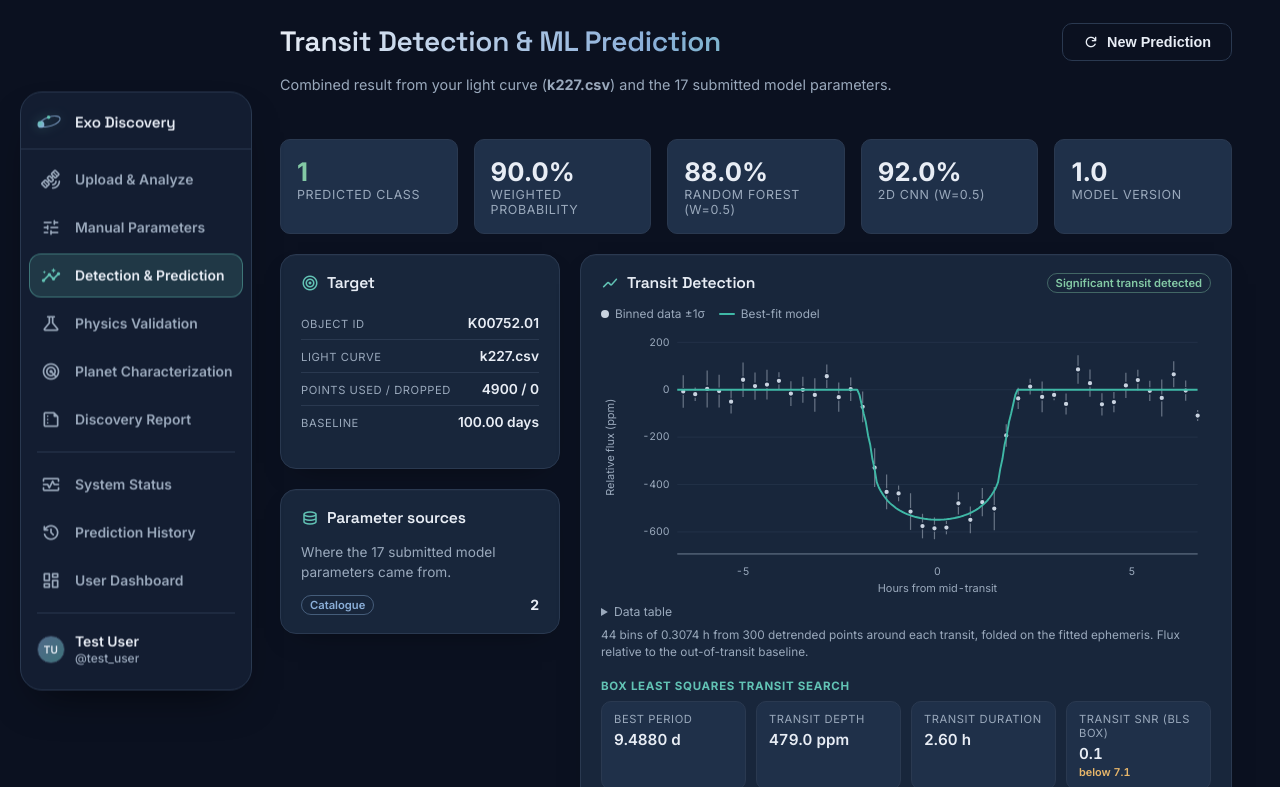
Illustrative planet above Key findings › renders above Key findings with its basis stated
Click the link "Planet Characterization": (137, 372) [41,360,233,384]
(page scrolled)
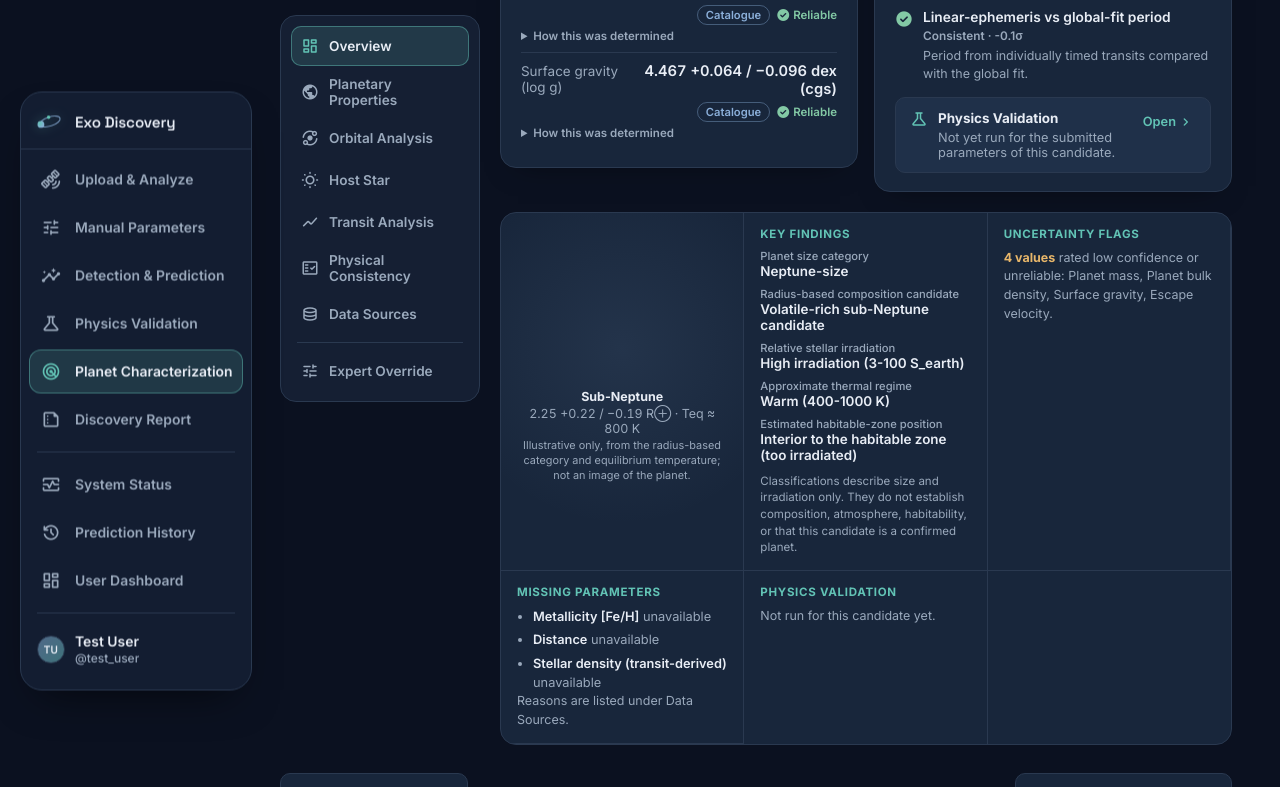
Expected: the element with test id "planet-preview" shows "Sub-Neptune", [581,389,663,404]
Expected: the element with class "insight-block" shows "Key findings", [760,227,850,241]
